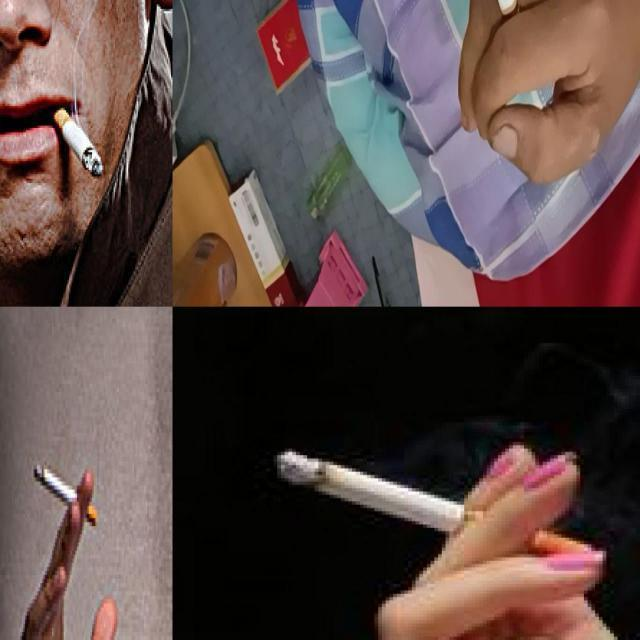rokok: (272, 449, 596, 567), (31, 454, 98, 526), (48, 101, 104, 179), (481, 1, 524, 40)
